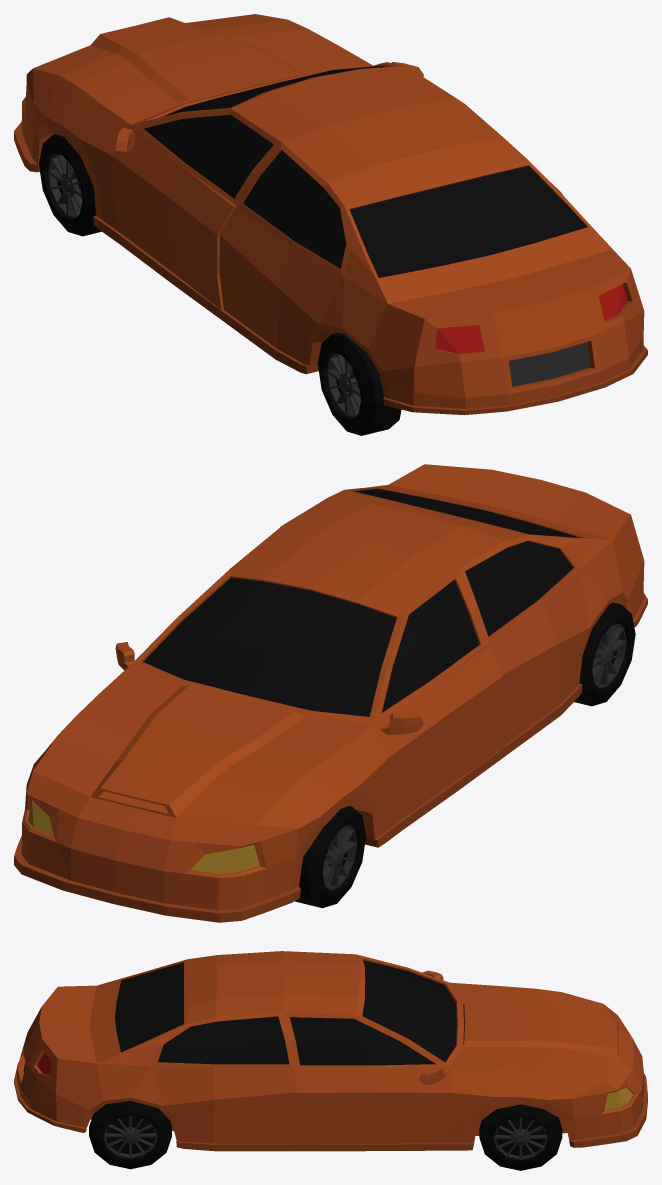
Rendered from SportsCar.glb.
3 renders of one model, top to bottom at view 1: azimuth 30°, elevation 25°; view 2: azimuth 150°, elevation 25°; view 3: azimuth 270°, elevation 25°, orthographic. The views are drawn at different scales.
Parts seen in each view (by area): view 1: SportsCar_Cube.005, SportsCar_BackWheels_Cylinder.004, SportsCar_FrontLeftWheel_Cylinder.013; view 2: SportsCar_Cube.005, SportsCar_FrontLeftWheel_Cylinder.013, SportsCar_BackWheels_Cylinder.004; view 3: SportsCar_Cube.005, SportsCar_BackWheels_Cylinder.004, SportsCar_FrontRightWheel_Cylinder.014.
Part boxes in pixels (bbox=[...]): SportsCar_Cube.005: bbox=[14, 14, 647, 415]; SportsCar_BackWheels_Cylinder.004: bbox=[317, 332, 401, 435]; SportsCar_FrontLeftWheel_Cylinder.013: bbox=[39, 134, 101, 236]; SportsCar_Cube.005: bbox=[14, 464, 647, 922]; SportsCar_FrontLeftWheel_Cylinder.013: bbox=[295, 806, 365, 908]; SportsCar_BackWheels_Cylinder.004: bbox=[574, 602, 635, 706]; SportsCar_Cube.005: bbox=[14, 951, 647, 1151]; SportsCar_BackWheels_Cylinder.004: bbox=[89, 1101, 171, 1169]; SportsCar_FrontRightWheel_Cylinder.014: bbox=[479, 1104, 562, 1170].
Bounding box in the file's own units: 1.8 × 1.15 × 4.5.
